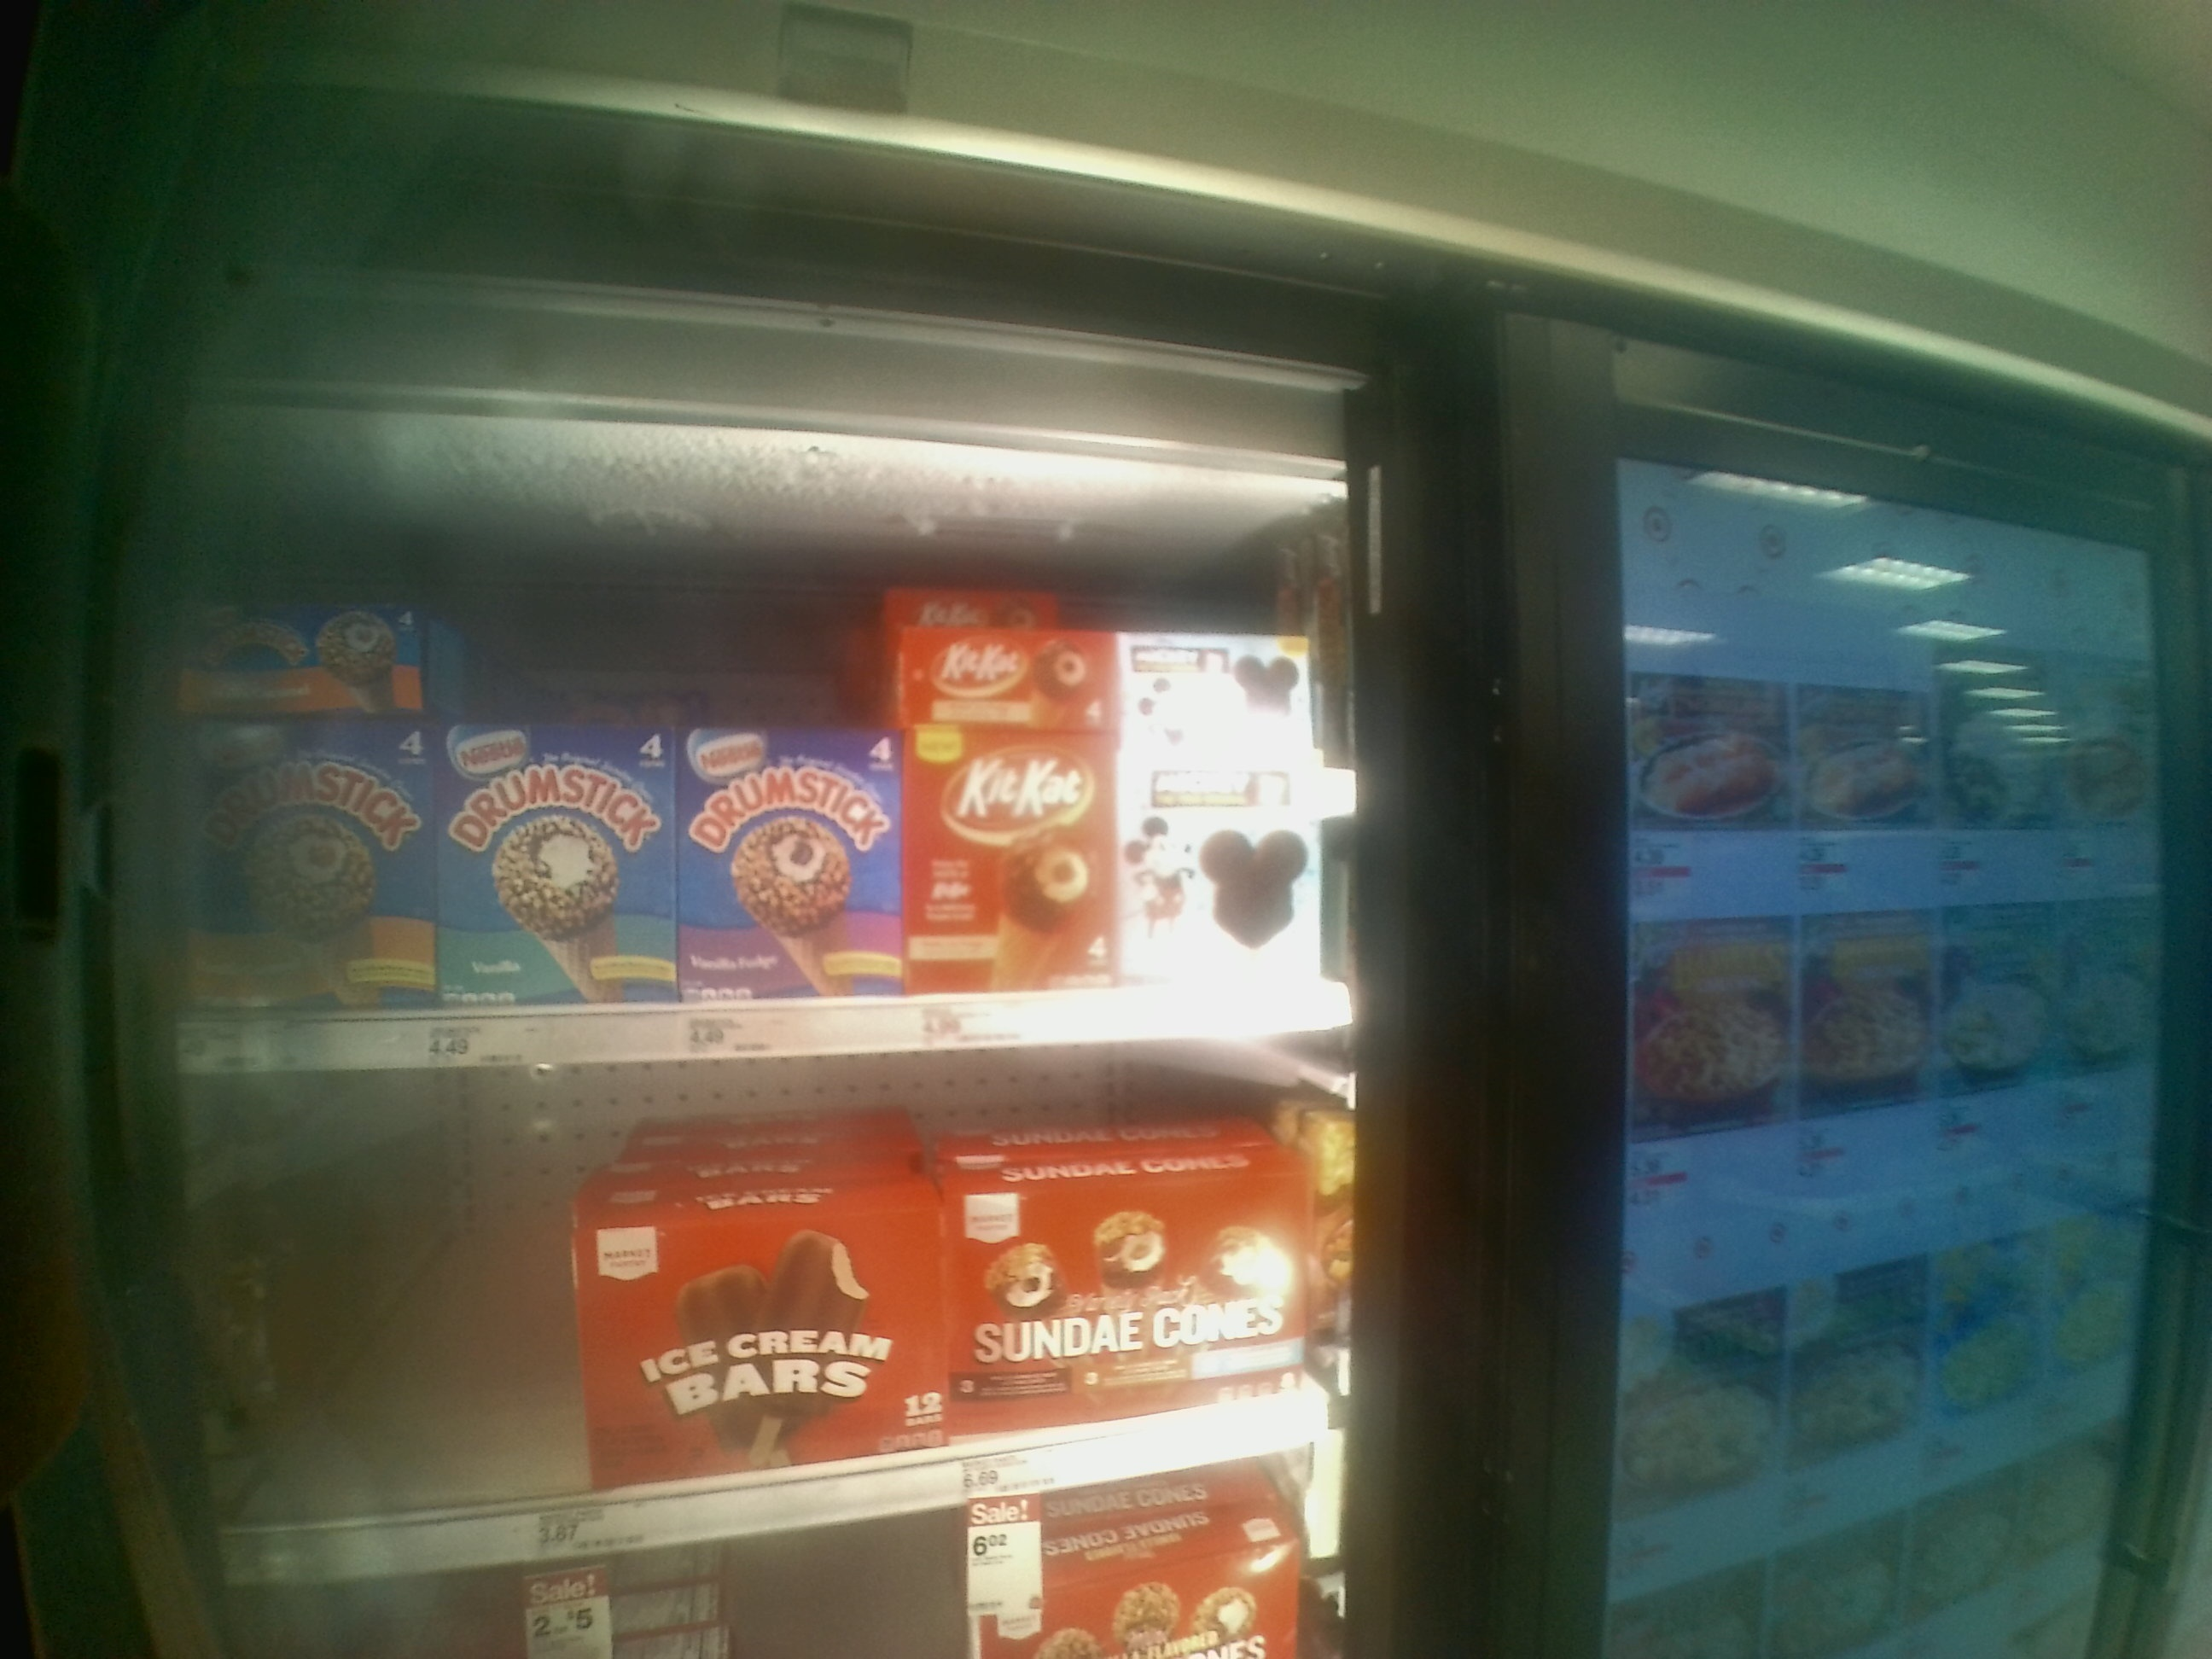shelf: (165, 1030, 1367, 1589), (165, 547, 1359, 1060)
